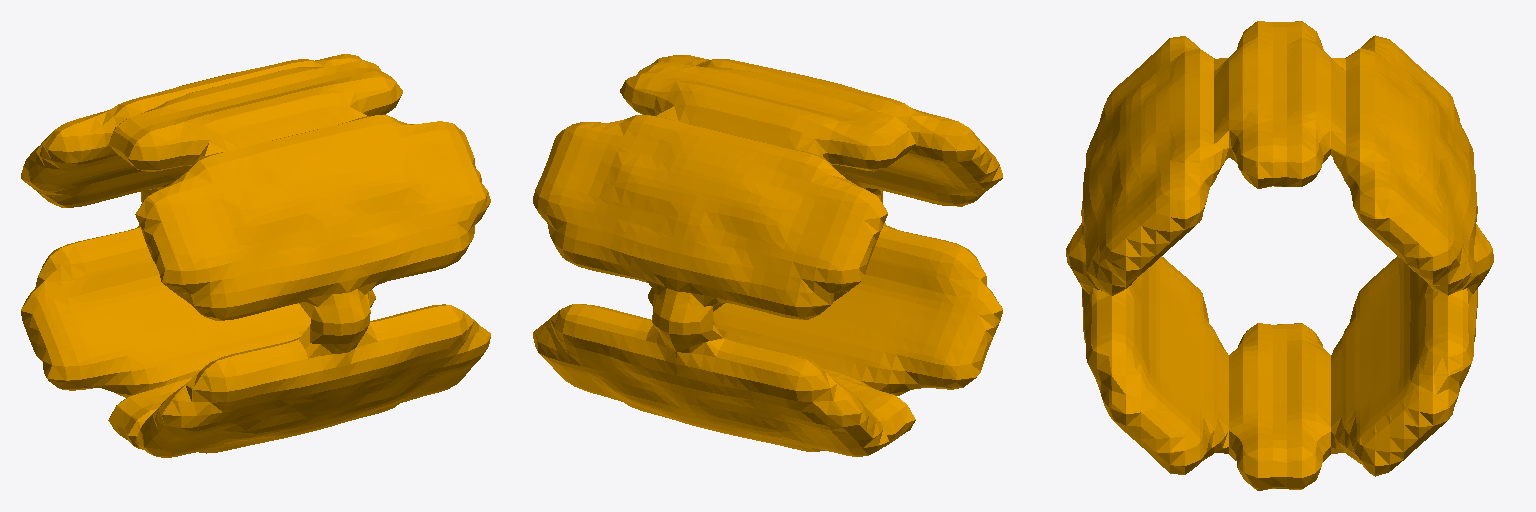
URDF robot description (E15_1):
<?xml version="1.0"?>
<robot name="E15_1">
  <link name="base_link">
    <visual>
      <geometry>
        <mesh filename="../../../../meshes/egad/train/E15_1.obj" />
      </geometry>
    </visual>
  </link>
</robot>

--- Facts derived from the render (not from the file) ---
3 views of the same robot in one strip: view 1: azimuth 30°, elevation 25°; view 2: azimuth 150°, elevation 25°; view 3: azimuth 270°, elevation 25° (orthographic).
Model E15_1 with 1 links and 0 joints (none), rooted at base_link, posed every joint at zero.
Visible links, largest first — view 1: base_link; view 2: base_link; view 3: base_link.
Link boxes in pixels (x1,y1,x2,y2): base_link: (21, 54, 490, 457); base_link: (533, 55, 1002, 456); base_link: (1066, 21, 1493, 490).
Bounding box of the posed robot: 0.0633 × 0.0656 × 0.06 m (x, y, z).
1 mesh visuals loaded from 1 distinct referenced files (1 OBJ).